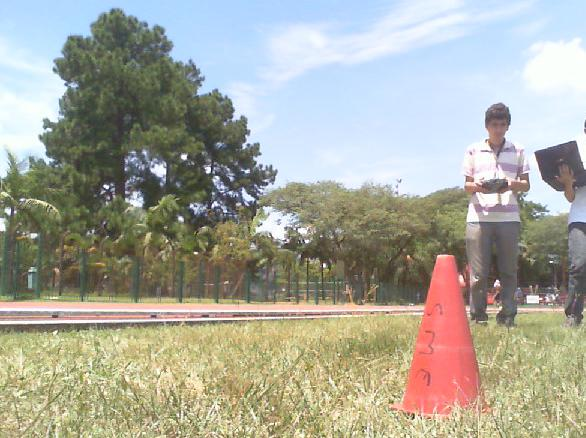0 cone: (388, 255, 487, 416)
